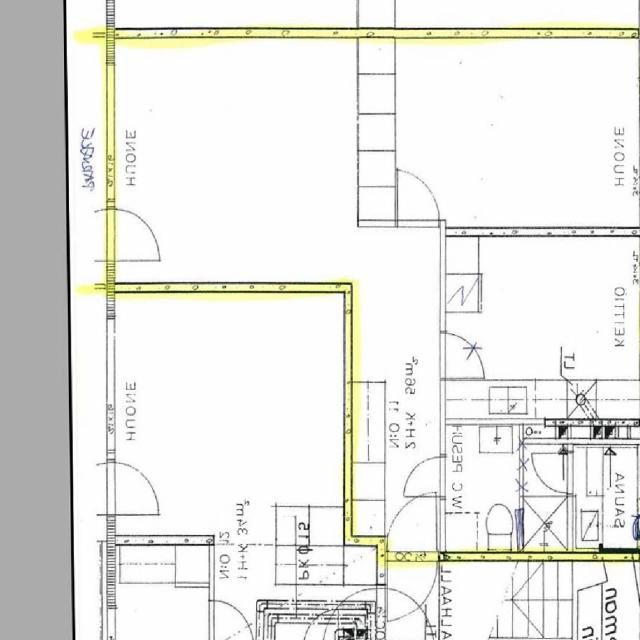door: (386, 551, 436, 618), (386, 494, 436, 560), (106, 209, 160, 261), (61, 209, 114, 261), (397, 173, 438, 226), (404, 456, 444, 496), (533, 453, 574, 492)
